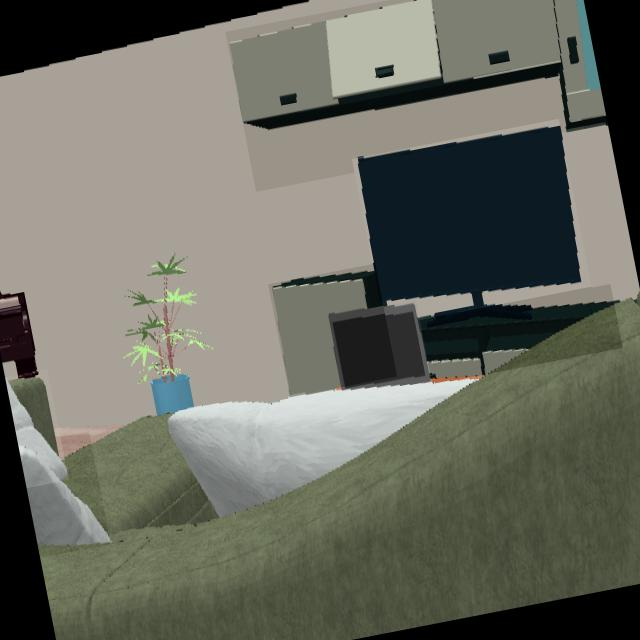cabinet: (231, 0, 608, 132), (420, 302, 615, 379), (272, 272, 383, 395)
laptop: (330, 305, 431, 391)
monitor: (358, 128, 582, 326)
pillow: (167, 380, 475, 521), (18, 445, 110, 547), (5, 377, 66, 482)
sofa: (38, 299, 640, 640), (10, 378, 59, 455)
